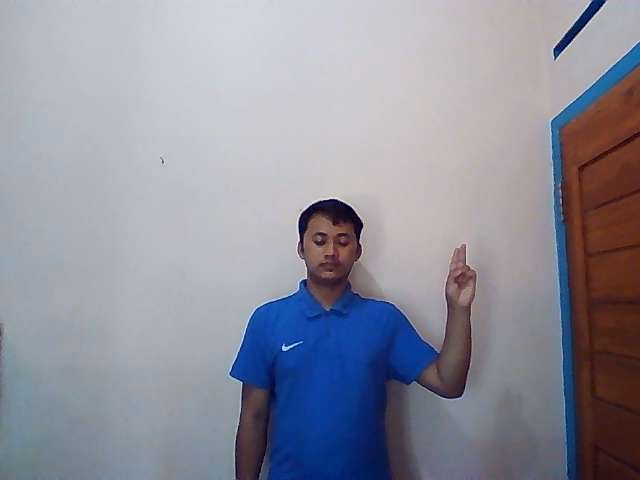U: (443, 243, 478, 308)
